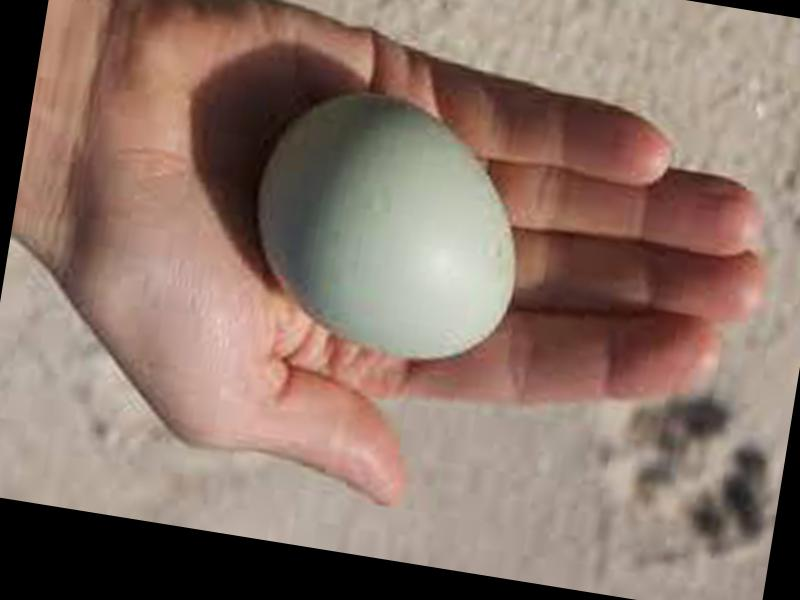Eggs: (242, 81, 543, 370)
